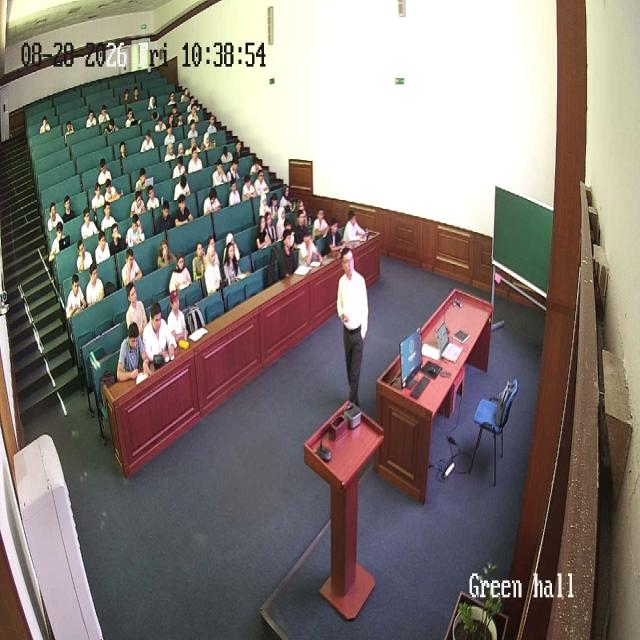person: (336, 248, 370, 408), (142, 302, 176, 366), (115, 321, 150, 382), (166, 292, 190, 348), (125, 283, 149, 336), (276, 224, 298, 277), (168, 249, 192, 297), (66, 273, 88, 324), (120, 243, 144, 289), (204, 244, 224, 294), (85, 259, 106, 305), (298, 224, 320, 267), (222, 238, 242, 284), (48, 219, 68, 263), (192, 239, 210, 283), (324, 216, 344, 255), (343, 210, 366, 243), (75, 238, 94, 276), (156, 235, 176, 271), (174, 191, 194, 227), (126, 213, 146, 248), (256, 212, 274, 250), (293, 209, 311, 246), (95, 228, 112, 266), (158, 198, 175, 235), (46, 200, 64, 234), (108, 221, 126, 255), (223, 232, 240, 267), (81, 209, 99, 241), (204, 184, 222, 216), (100, 201, 117, 234), (312, 205, 328, 239), (173, 171, 191, 201), (211, 157, 229, 187), (275, 203, 289, 241), (61, 193, 77, 225), (130, 188, 147, 218), (103, 177, 121, 205), (91, 180, 106, 212), (146, 182, 162, 212), (253, 168, 270, 196), (184, 99, 202, 125), (226, 157, 242, 185), (200, 128, 217, 154), (187, 145, 203, 172), (135, 166, 151, 192), (256, 190, 272, 216), (228, 178, 242, 207), (242, 171, 256, 200), (98, 156, 112, 185), (140, 129, 156, 154), (163, 135, 177, 163), (172, 153, 187, 179), (219, 142, 234, 168), (281, 177, 294, 207), (246, 151, 261, 176), (118, 139, 130, 169), (185, 134, 200, 158), (266, 191, 280, 215), (95, 101, 107, 127), (176, 137, 190, 159), (131, 81, 143, 106), (181, 80, 193, 104), (64, 119, 75, 145), (126, 108, 139, 130), (102, 114, 117, 133), (153, 111, 166, 132), (118, 90, 132, 108), (233, 138, 243, 162), (208, 109, 218, 132), (85, 108, 96, 128), (167, 100, 179, 117), (294, 197, 306, 214), (164, 112, 174, 131), (40, 116, 50, 134), (188, 121, 198, 138), (148, 94, 158, 110), (165, 88, 175, 104), (176, 108, 184, 126), (187, 94, 197, 108)
